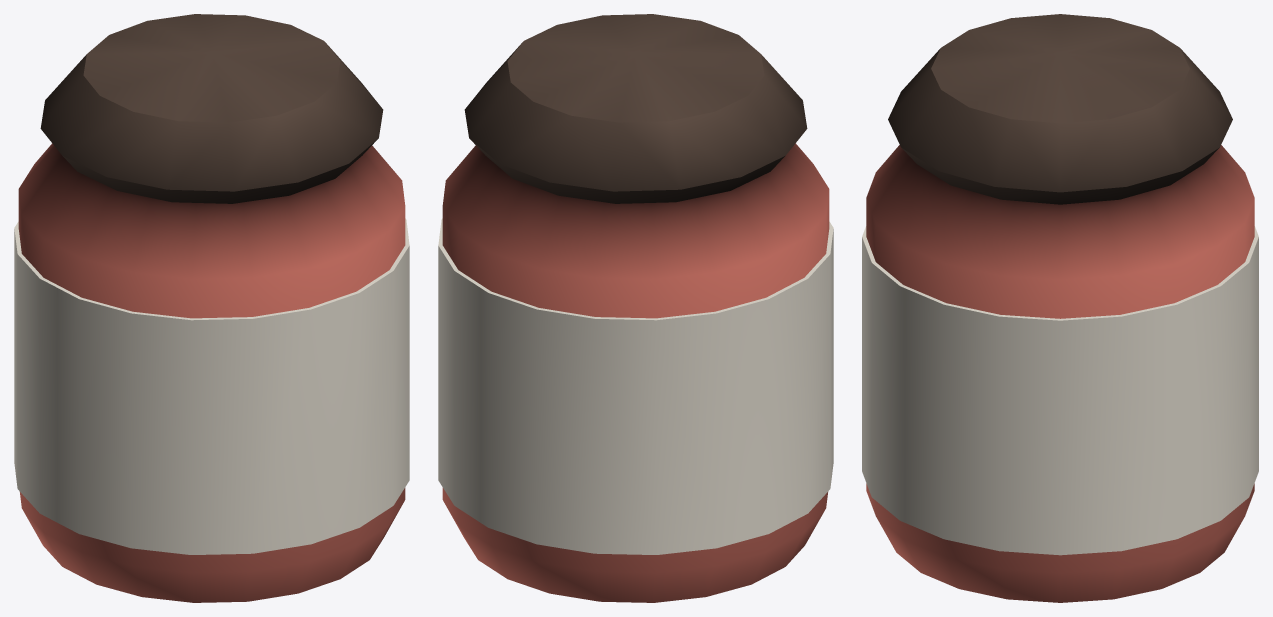
The model's file is dish_preserve.glb.
3 views of the same model, side by side, from view 1: azimuth 30°, elevation 25°; view 2: azimuth 150°, elevation 25°; view 3: azimuth 270°, elevation 25° (orthographic).
Visible parts, largest first — view 1: PART; view 2: PART; view 3: PART.
Boxes of the visible parts, bbox=[...] form: PART: bbox=[14, 14, 409, 602]; PART: bbox=[438, 14, 833, 602]; PART: bbox=[862, 14, 1258, 602].
Bounding box in the file's own units: 0.092 × 0.122 × 0.092.
